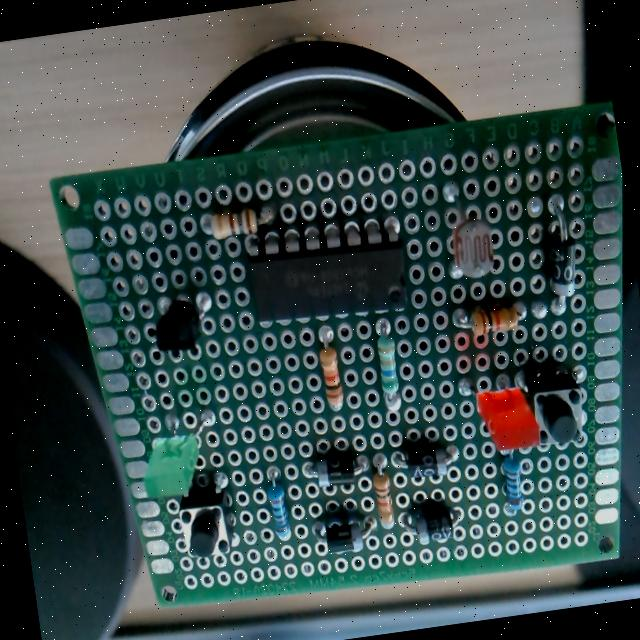IC: (243, 218, 410, 329)
cds: (428, 175, 504, 292)
diode: (536, 202, 582, 315), (392, 440, 461, 482), (401, 501, 461, 547), (314, 513, 372, 557), (305, 452, 368, 490)
led: (136, 406, 222, 503), (474, 382, 542, 456)
resistor: (262, 464, 292, 542), (374, 326, 402, 400), (469, 300, 520, 338), (318, 344, 346, 413), (210, 206, 262, 242), (498, 454, 528, 514), (372, 470, 396, 530)
switch: (174, 472, 240, 564), (522, 366, 590, 449)
transistor: (140, 283, 223, 361)
